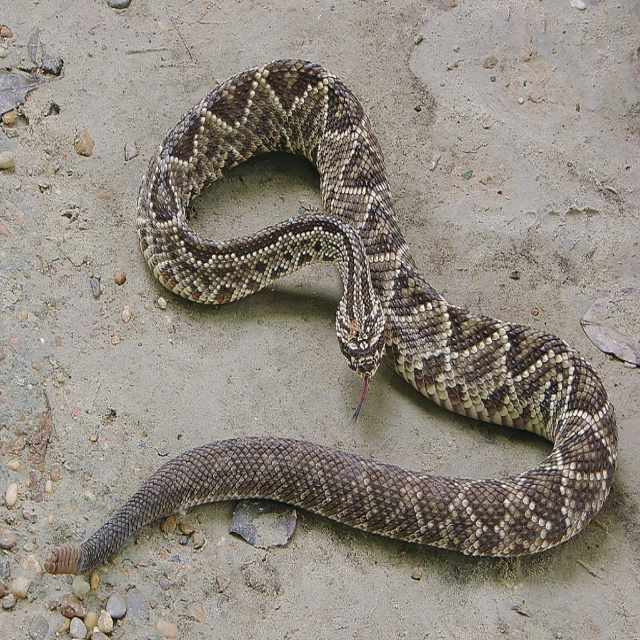Snake: (41, 53, 620, 579)
